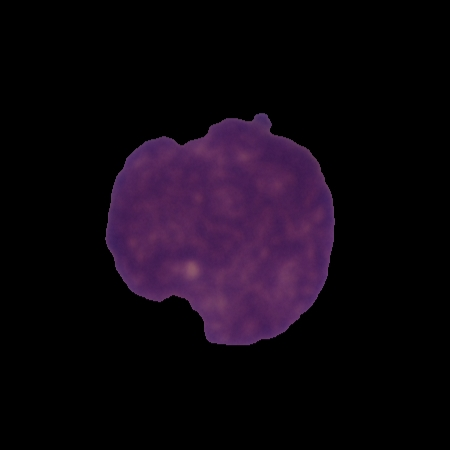HEM: (102, 110, 338, 348)
